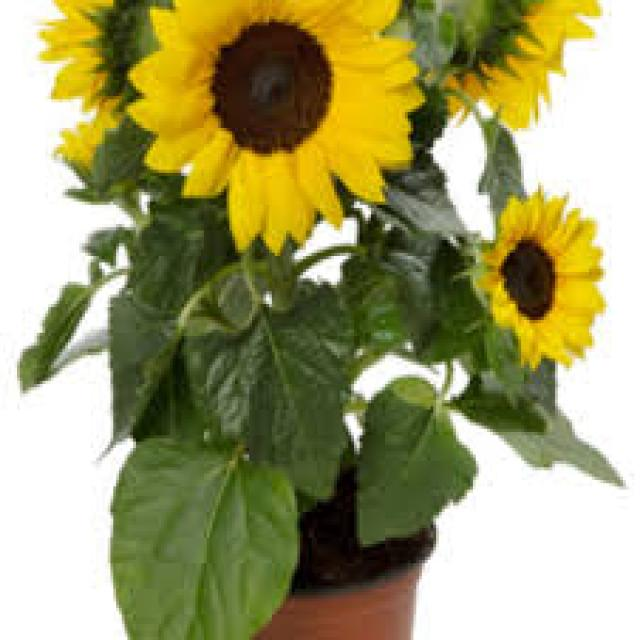sunflower: (118, 4, 440, 262), (24, 0, 191, 198), (401, 0, 613, 140), (472, 175, 610, 375)
